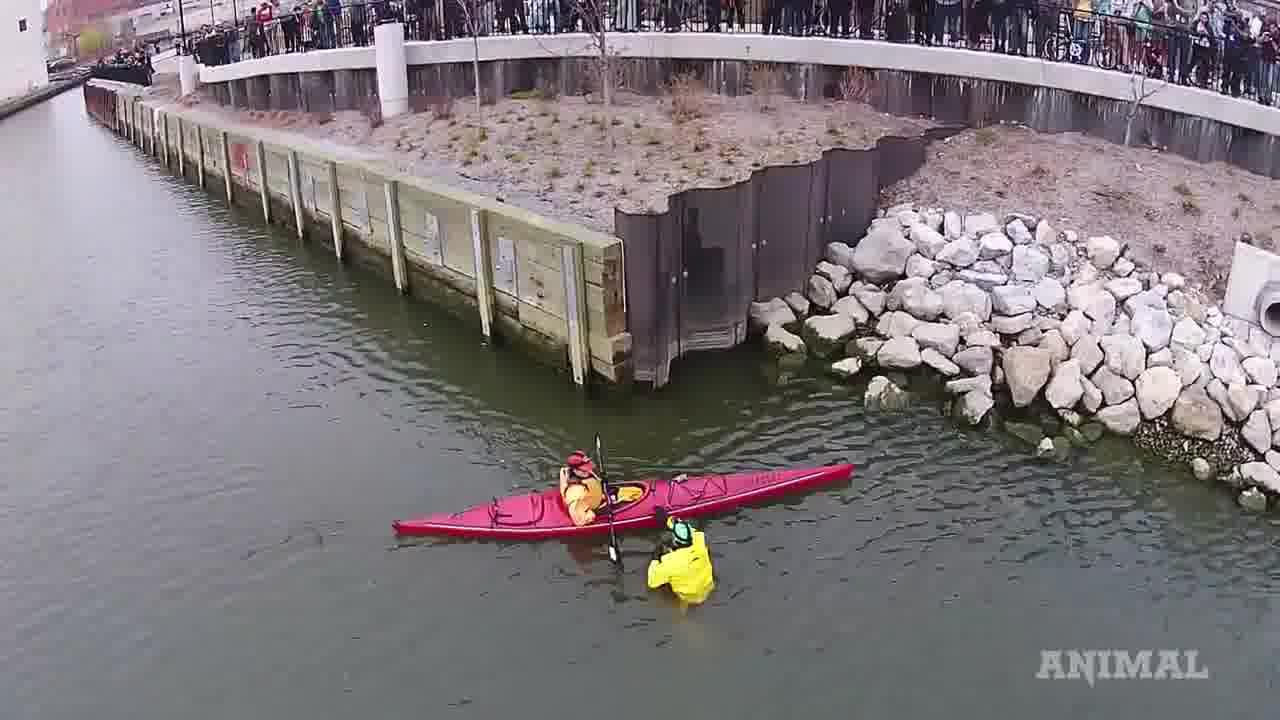human: (645, 526, 736, 612)
